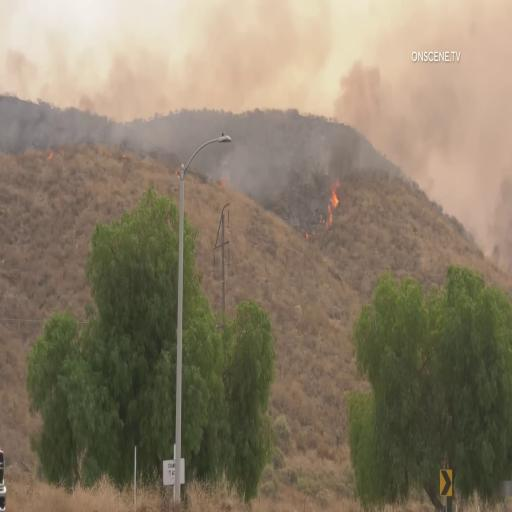fire: (323, 177, 342, 230)
smoke: (330, 58, 407, 172)
